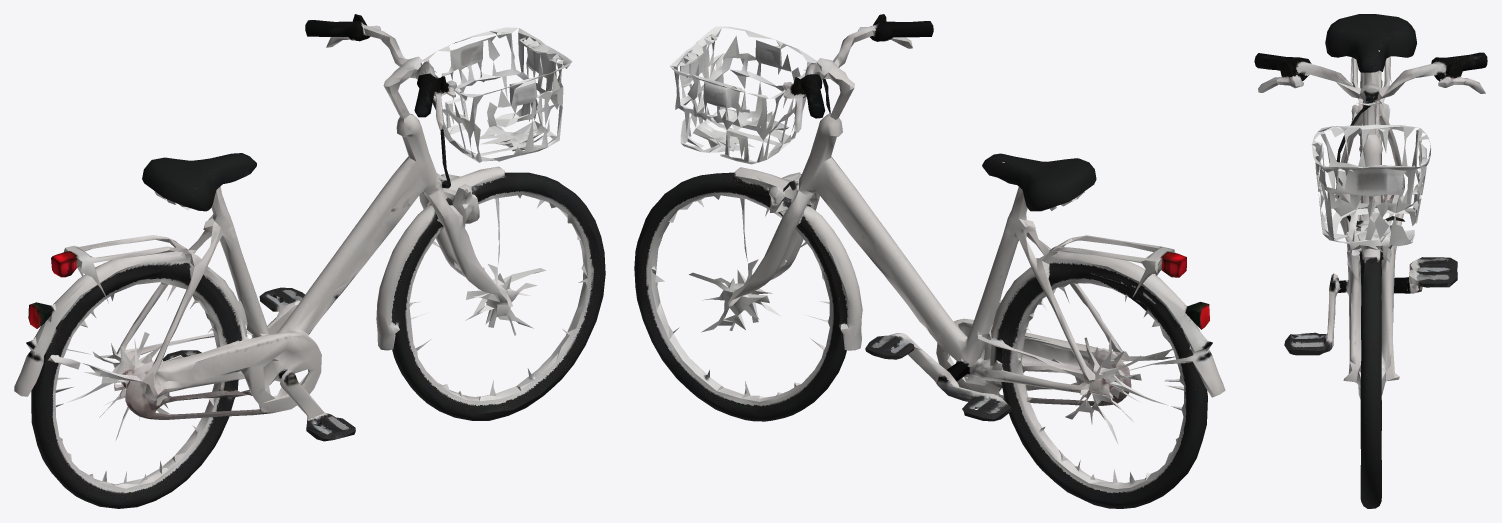
Rendered from bicycle.glb.
3 views of the same model, side by side, from view 1: azimuth 30°, elevation 25°; view 2: azimuth 150°, elevation 25°; view 3: azimuth 270°, elevation 25° (orthographic).
Visible parts, largest first — view 1: bicycle; view 2: bicycle; view 3: bicycle.
Boxes of the visible parts, x1,y1,x2,y2 form: bicycle: (14, 14, 605, 508); bicycle: (634, 14, 1225, 508); bicycle: (1254, 14, 1487, 508).
Bounding box in the file's own units: 1.63 × 1.05 × 0.5675.
1 material, 1 textured.
